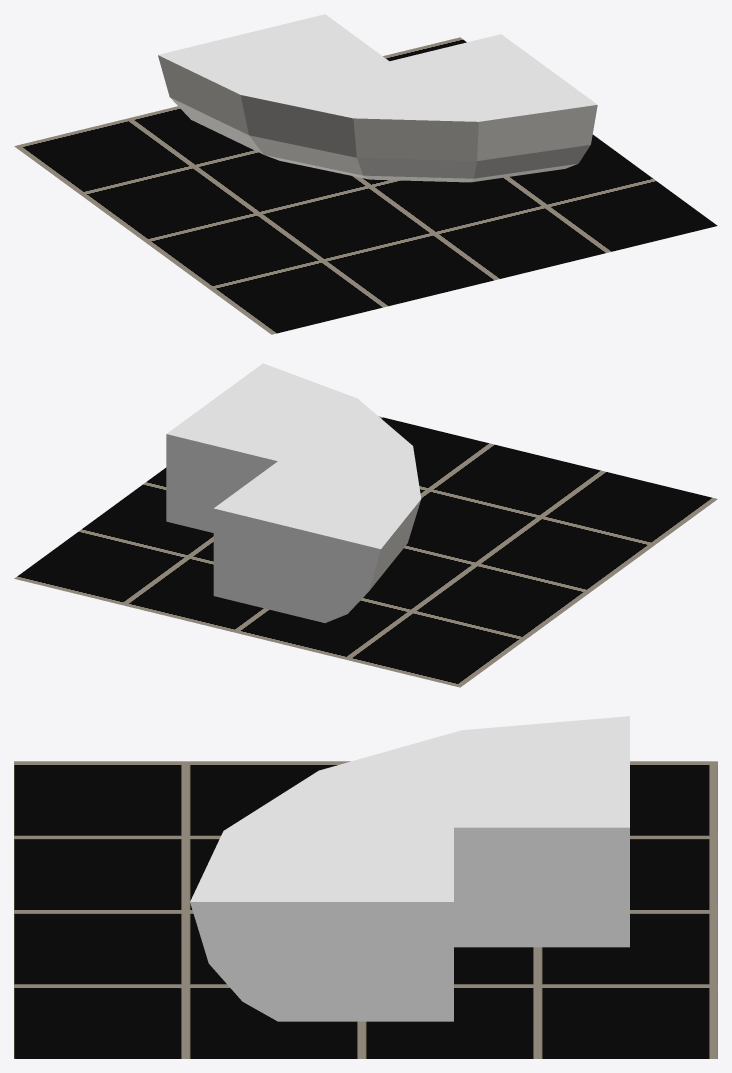
The model's file is Basic_Curve_Outer_3x3_Under.glb.
3 views of the same model, one above another, from view 1: azimuth 30°, elevation 25°; view 2: azimuth 150°, elevation 25°; view 3: azimuth 270°, elevation 25° (orthographic). The views are drawn at different scales.
Parts seen in each view (by area): view 1: Floor, Basic_Curve_Outer_3x3_Under; view 2: Floor, Basic_Curve_Outer_3x3_Under; view 3: Floor, Basic_Curve_Outer_3x3_Under.
Boxes of the visible parts, x1,y1,x2,y2 form: Floor: (14,37,717,334); Basic_Curve_Outer_3x3_Under: (158,14,597,182); Floor: (14,416,717,687); Basic_Curve_Outer_3x3_Under: (166,363,421,622); Floor: (14,761,717,1058); Basic_Curve_Outer_3x3_Under: (190,716,629,1021).
Bounding box in the file's own units: 400 × 75 × 400.
3 materials, 1 textured.
